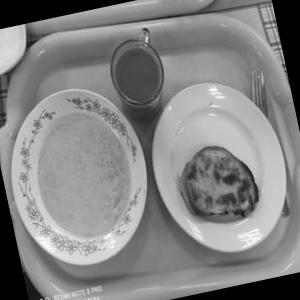cheese_sandwich: (159, 126, 261, 238)
coffee: (90, 22, 192, 138)
porridge: (0, 83, 155, 262)
